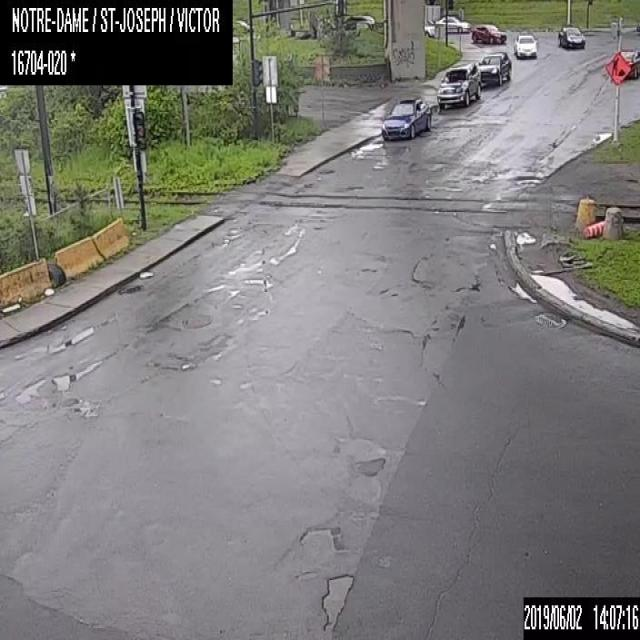construction: (604, 51, 630, 84), (583, 220, 604, 237)
vehicle: (381, 96, 431, 140), (436, 61, 481, 109), (478, 51, 511, 84), (557, 25, 585, 50), (471, 24, 506, 44), (618, 47, 639, 78), (513, 34, 538, 58), (436, 15, 470, 32), (344, 14, 373, 27), (424, 22, 434, 36)
